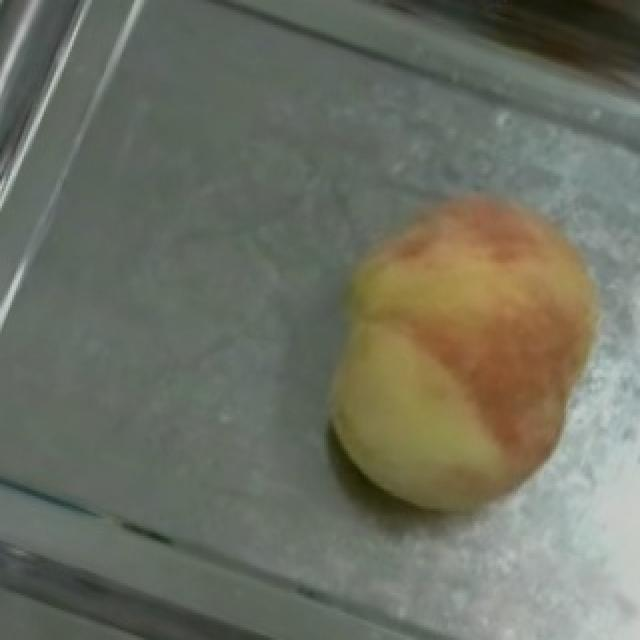Fruit: (296, 142, 640, 494)
